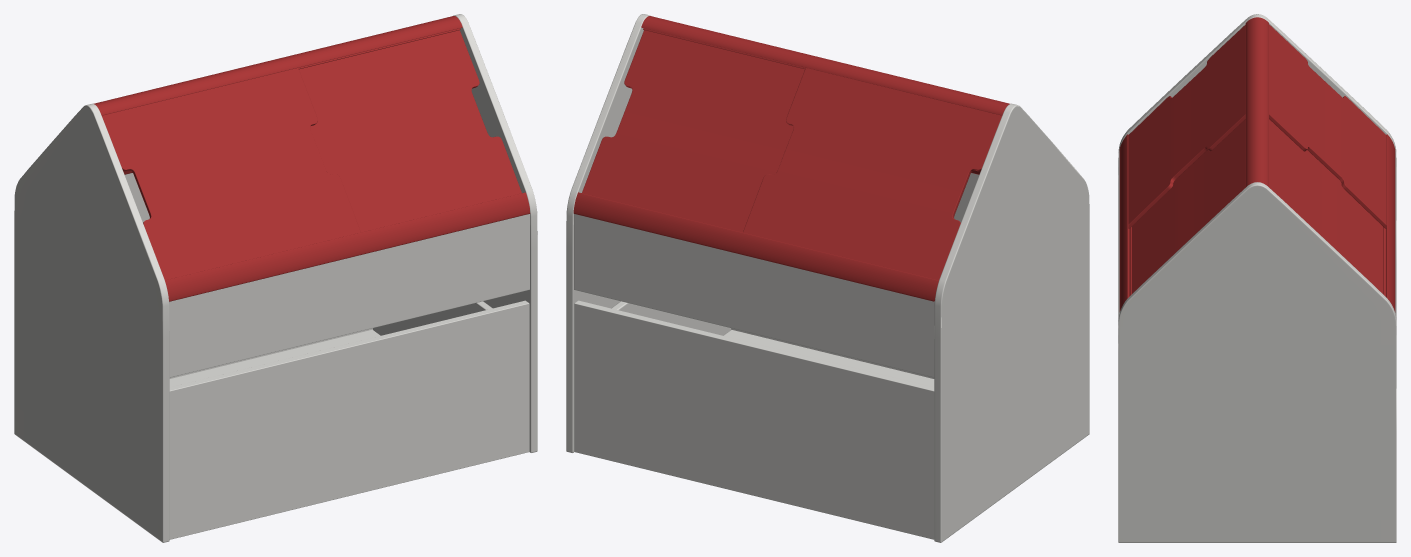
The picture shows the model from 3 angles, left to right: view 1: azimuth 30°, elevation 25°; view 2: azimuth 150°, elevation 25°; view 3: azimuth 270°, elevation 25°; orthographic projection. The views are drawn at different scales.
Visible parts, largest first — view 1: Mesh_0; view 2: Mesh_0; view 3: Mesh_0.
Boxes of the visible parts, x1,y1,x2,y2 form: Mesh_0: (14, 14, 537, 542); Mesh_0: (566, 14, 1089, 542); Mesh_0: (1118, 14, 1396, 542).
Bounding box in the file's own units: 0.8 × 0.7801 × 0.5499.
